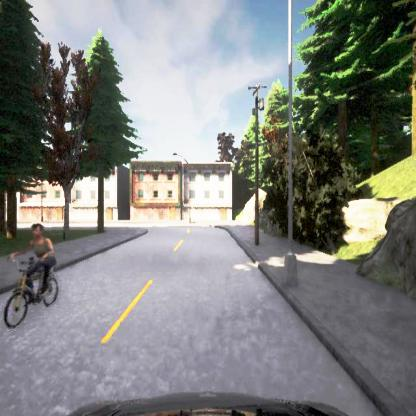bike: (3, 222, 60, 329)
